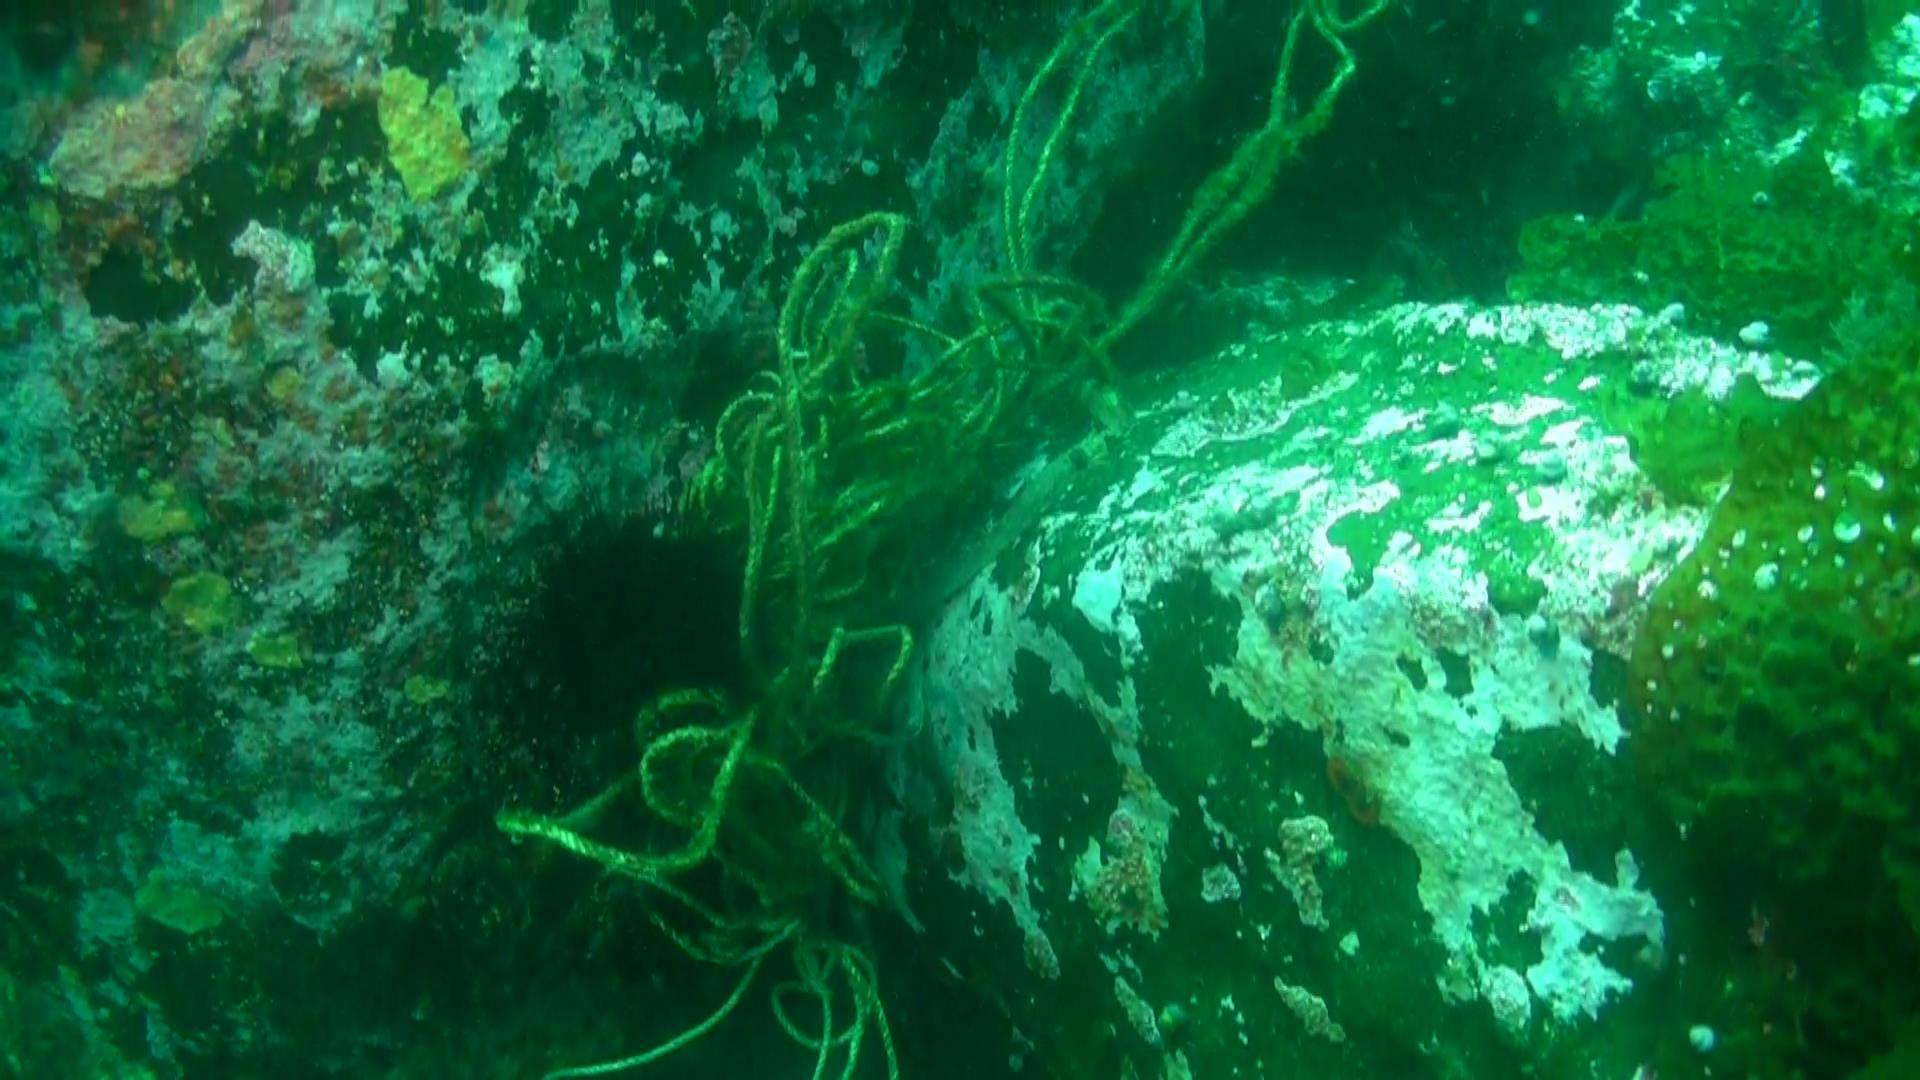bundle of ropes: (495, 0, 1387, 1080)
